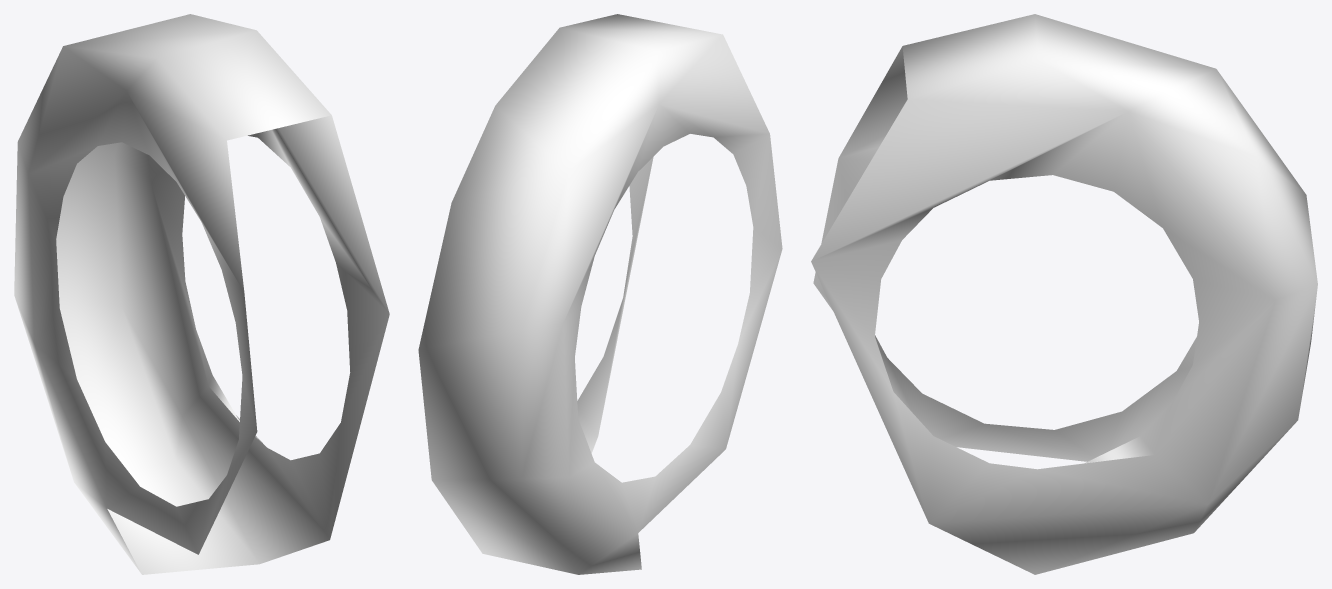
The picture shows the model from 3 angles, left to right: view 1: azimuth 30°, elevation 25°; view 2: azimuth 150°, elevation 25°; view 3: azimuth 270°, elevation 25°; orthographic projection. The views are drawn at different scales.
Bounding box in the file's own units: 0.1614 × 0.6163 × 0.5505.
1 material, 1 textured.
